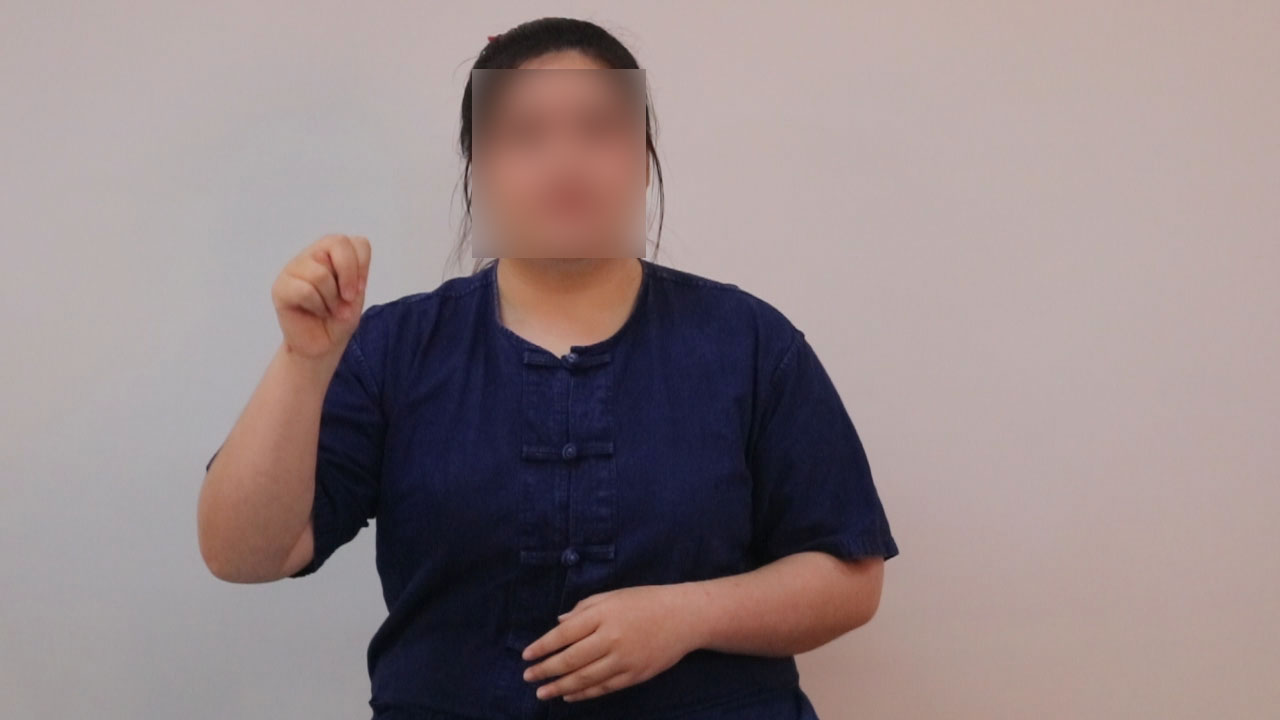nor: (262, 225, 382, 359)
